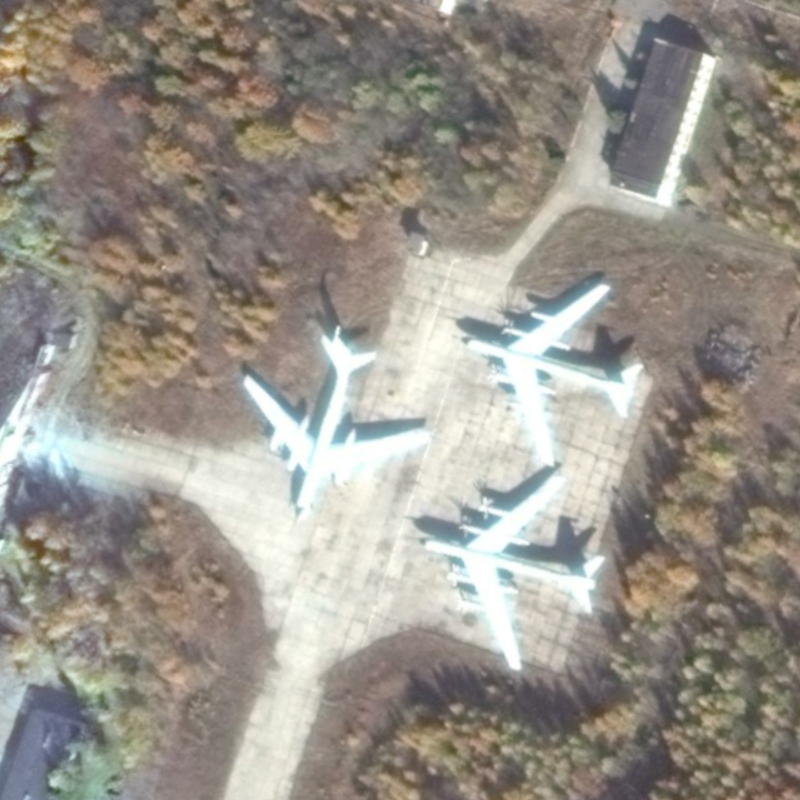A17: (415, 463, 610, 677), (236, 320, 437, 516), (458, 280, 649, 477)
